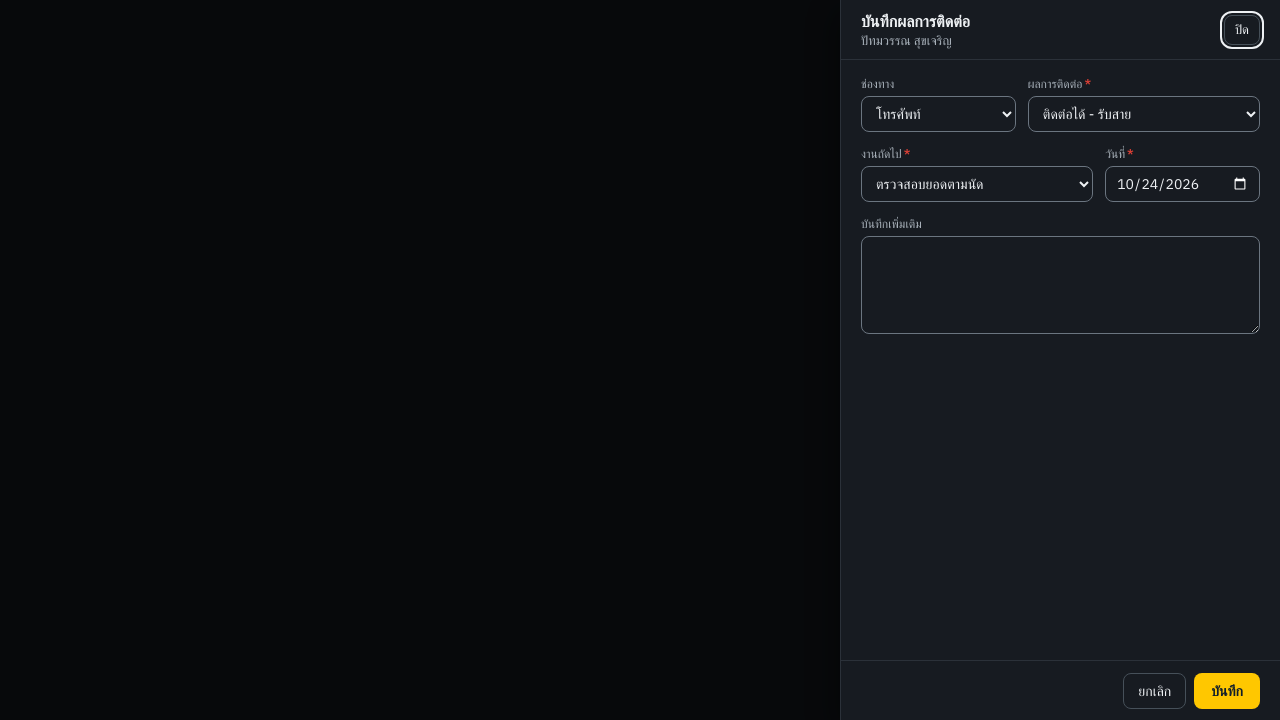
Test: the contact drawer promise fields (F01, F01c) › refuses to save a promise without an amount and sends the ptp when filled
Later steps or results of the test are not shown.
Select "ติดต่อได้ (โทรศัพท์) - นัดชำระ" in the dropdown labelled "ผลการติดต่อ*": (1144, 114) [1028, 96, 1260, 132]
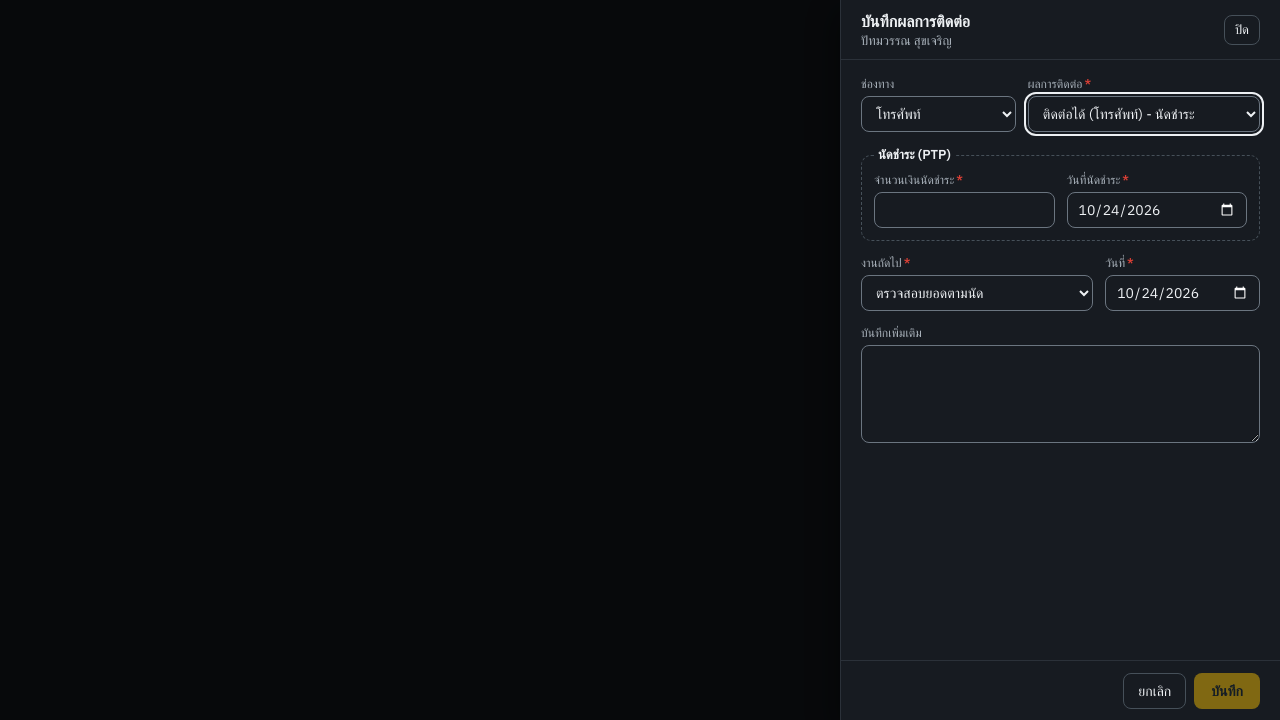
Now the button "บันทึก" is disabled, box [1194, 672, 1260, 708]
In the field labelled "จำนวนเงินนัดชำระ*": (964, 210) [874, 192, 1054, 228], type "1000"
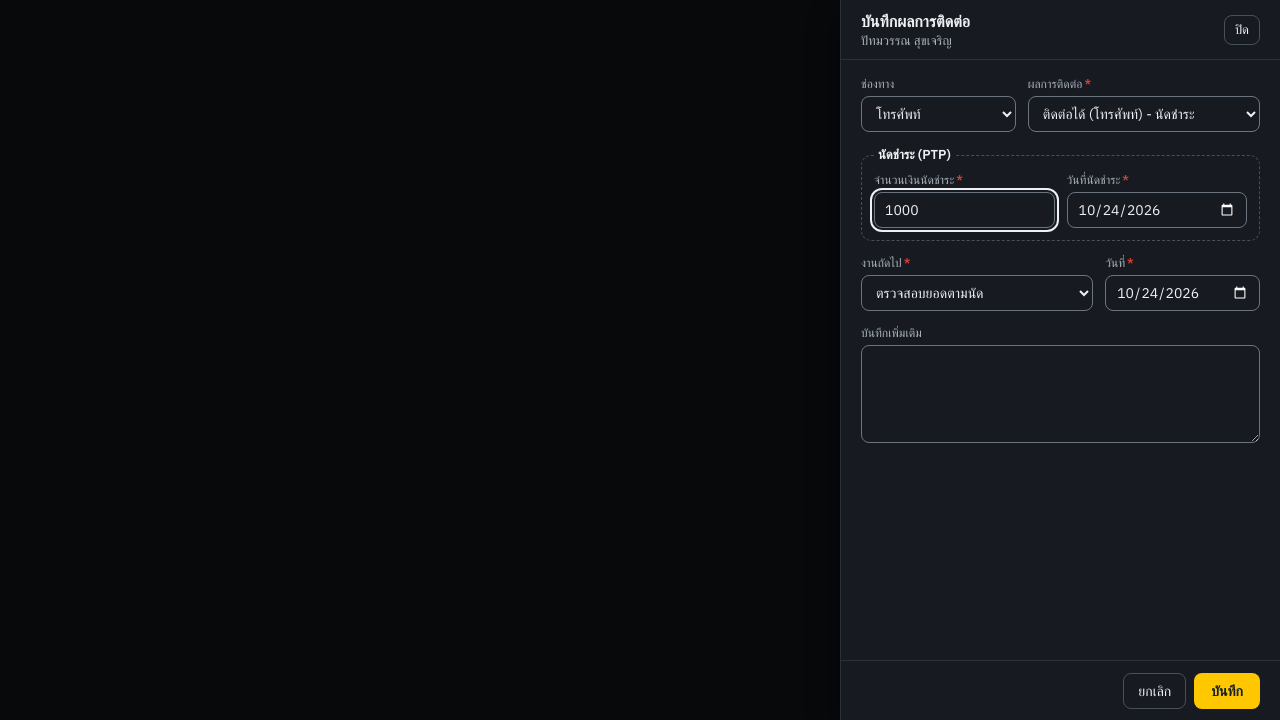
Now the button "บันทึก" is enabled, box [1194, 672, 1260, 708]
